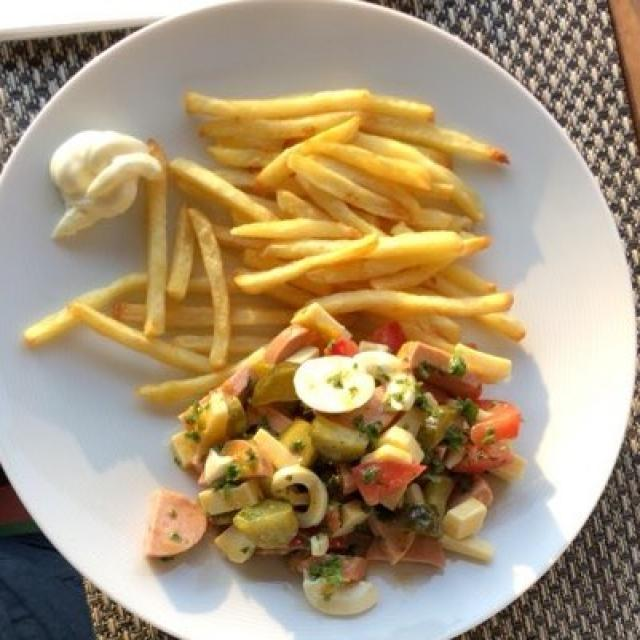cervelat: (140, 317, 323, 564)
chips-french-fries: (16, 70, 524, 408)
cucumber-pickled: (228, 363, 308, 553)
egg: (288, 351, 395, 428)
mayonnaise: (46, 123, 163, 237)
tomato: (352, 365, 515, 505)
